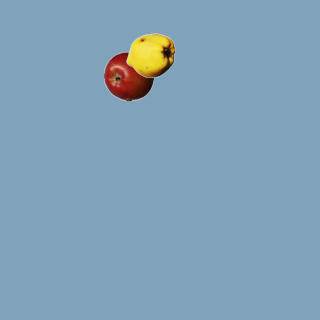Apple Braeburn: (103, 51, 153, 101)
Quince: (125, 30, 175, 80)
